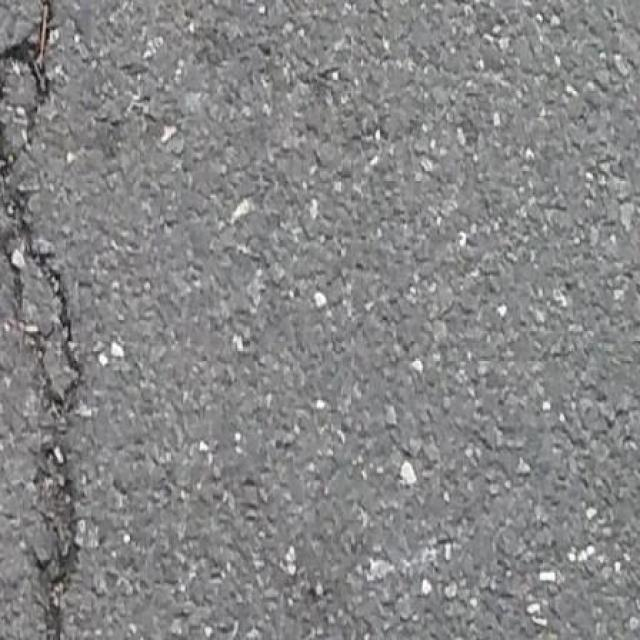Crack: (0, 0, 80, 640)
